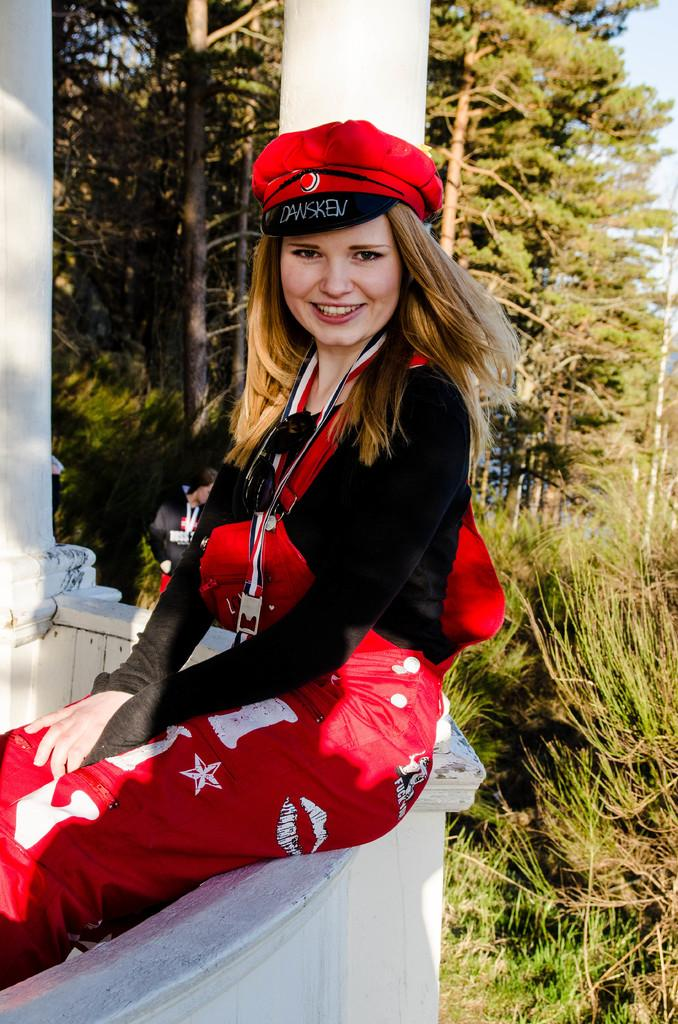Hat: (242, 121, 460, 252)
